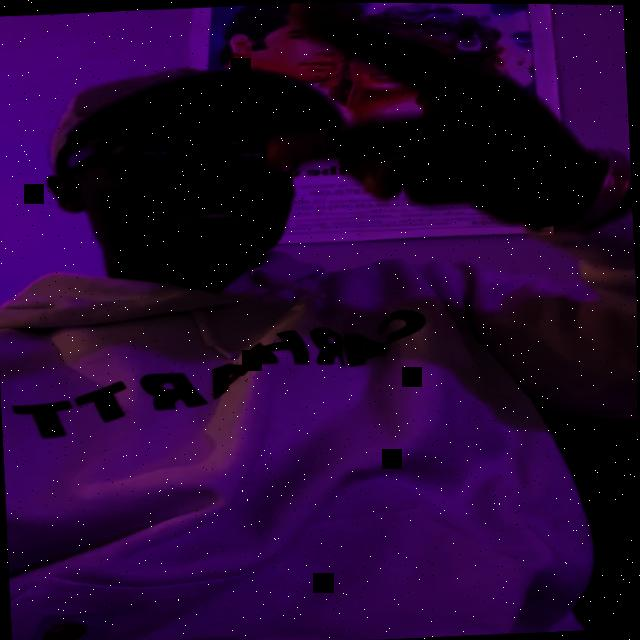Scissors: (259, 2, 610, 242)
